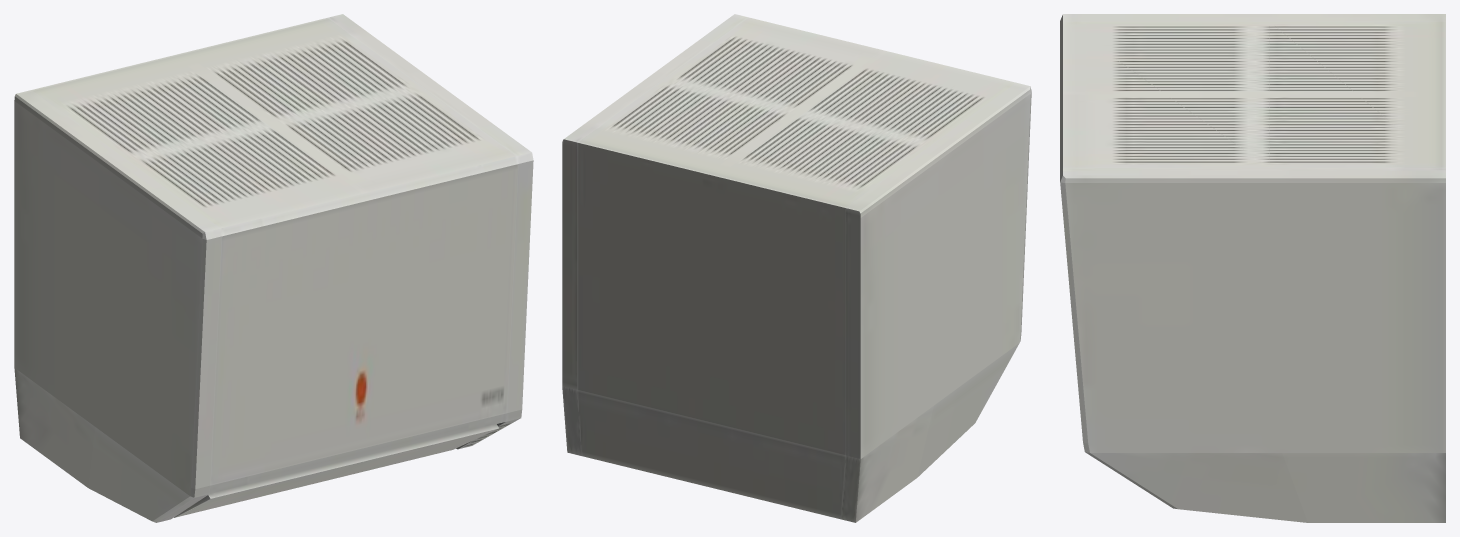
Rendered from sh-scopia-internal-unity-air-conditioning.glb.
The picture shows the model from 3 angles, left to right: view 1: azimuth 30°, elevation 25°; view 2: azimuth 150°, elevation 25°; view 3: azimuth 270°, elevation 25°; orthographic projection. The views are drawn at different scales.
Parts seen in each view (by area): view 1: internal-unit_Cube.001; view 2: internal-unit_Cube.001; view 3: internal-unit_Cube.001.
Boxes of the visible parts, x1=… form: internal-unit_Cube.001: x1=14, y1=14, x2=533, y2=522; internal-unit_Cube.001: x1=562, y1=14, x2=1031, y2=522; internal-unit_Cube.001: x1=1060, y1=14, x2=1445, y2=522.
Bounding box in the file's own units: 1 × 1 × 1.
Materials: 1 (1 with a texture image).
